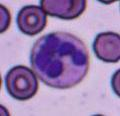N: (31, 30, 90, 88)
